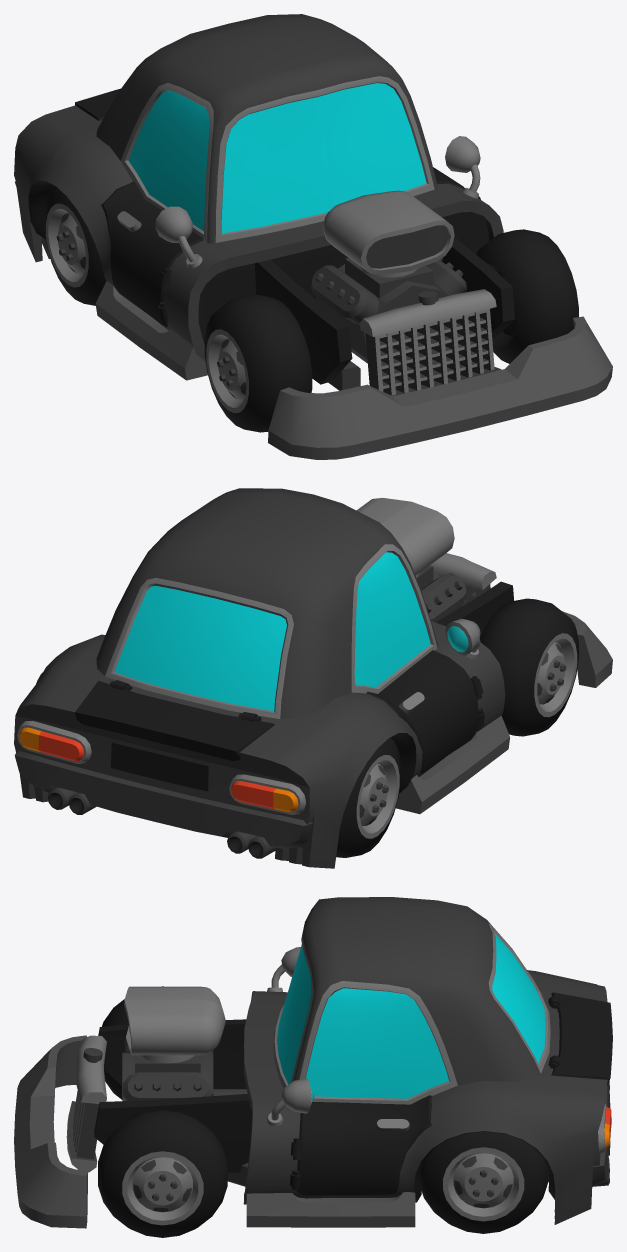
Rendered from VEH8-A.fbx.
3 views of the same model, one above another, from view 1: azimuth 30°, elevation 25°; view 2: azimuth 150°, elevation 25°; view 3: azimuth 270°, elevation 25° (orthographic). The views are drawn at different scales.
Parts seen in each view (by area): view 1: VEH8_A, V8A_Wheel_FR, V8A_Wheel_FL, V8A_Wheel_BR; view 2: VEH8_A, V8A_Wheel_FR, V8A_Wheel_BR; view 3: VEH8_A, V8A_Wheel_FL, V8A_Wheel_BL, V8A_Wheel_FR.
Part boxes in pixels (x1=…): VEH8_A: x1=14, y1=14, x2=612, y2=459; V8A_Wheel_FR: x1=204, y1=294, x2=312, y2=432; V8A_Wheel_FL: x1=476, y1=229, x2=578, y2=363; V8A_Wheel_BR: x1=44, y1=186, x2=106, y2=305; VEH8_A: x1=14, y1=488, x2=612, y2=868; V8A_Wheel_FR: x1=480, y1=598, x2=578, y2=736; V8A_Wheel_BR: x1=336, y1=738, x2=401, y2=857; VEH8_A: x1=14, y1=897, x2=612, y2=1228; V8A_Wheel_FL: x1=98, y1=1110, x2=227, y2=1237; V8A_Wheel_BL: x1=420, y1=1131, x2=548, y2=1233; V8A_Wheel_FR: x1=102, y1=986, x2=163, y2=1099.
Bounding box in the file's own units: 252 × 189 × 412.
Materials: 1 (1 with a texture image).
